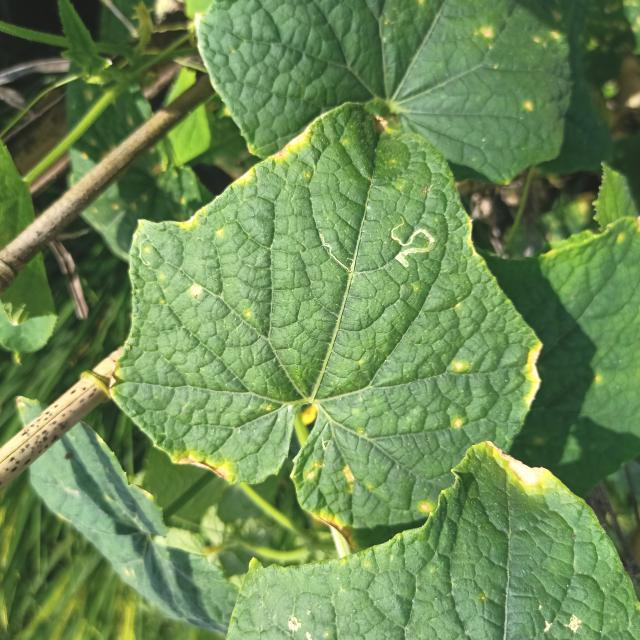disease_cucumber: (306, 456, 356, 531), (176, 210, 231, 244), (450, 355, 470, 374), (188, 283, 204, 298), (453, 415, 465, 430)
